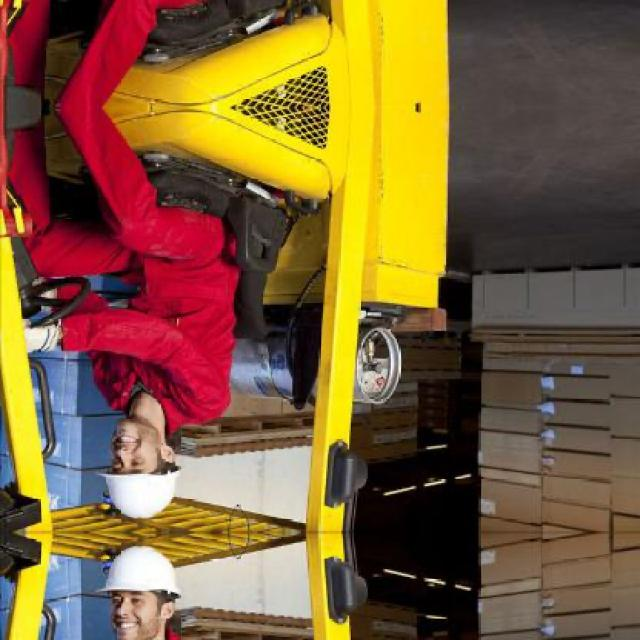con casco: (93, 444, 189, 538)
